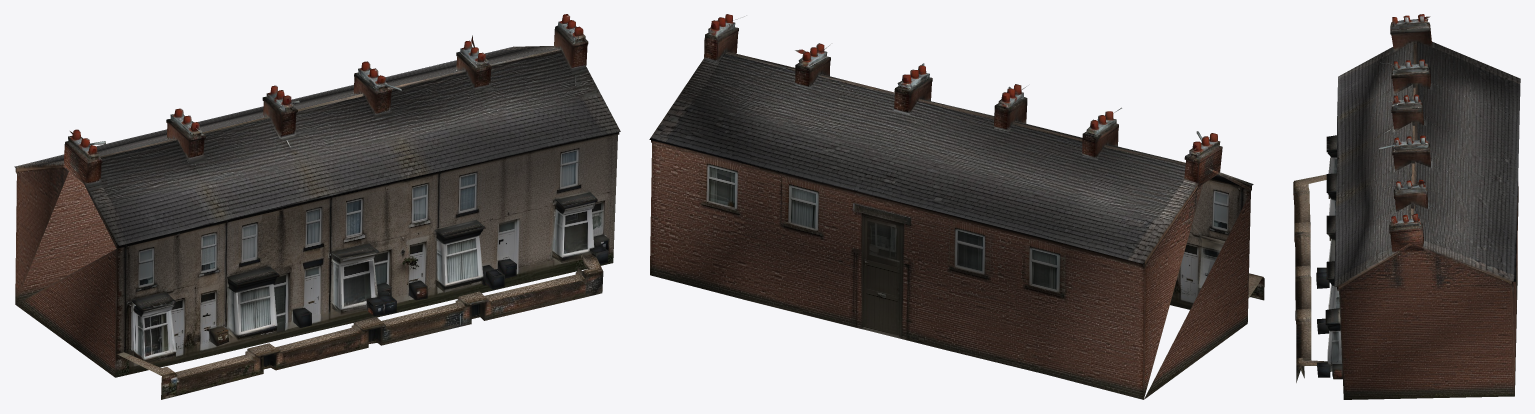
File: london+common+row+of+terraced+houses+3d+model.glb
3 renders of one model, left to right at view 1: azimuth 30°, elevation 25°; view 2: azimuth 150°, elevation 25°; view 3: azimuth 270°, elevation 25°, orthographic. The views are drawn at different scales.
Visible parts, largest first — view 1: tripo_node_231d8080-462e-4f92-a8f3-3230a95a6191; view 2: tripo_node_231d8080-462e-4f92-a8f3-3230a95a6191; view 3: tripo_node_231d8080-462e-4f92-a8f3-3230a95a6191.
Part boxes in pixels (bbox=[...]): tripo_node_231d8080-462e-4f92-a8f3-3230a95a6191: bbox=[14, 14, 620, 399]; tripo_node_231d8080-462e-4f92-a8f3-3230a95a6191: bbox=[649, 14, 1264, 399]; tripo_node_231d8080-462e-4f92-a8f3-3230a95a6191: bbox=[1293, 14, 1520, 399].
Size of the model in its own units: 0.998 by 0.416 by 0.4668.
Materials: 1 (1 with a texture image).
